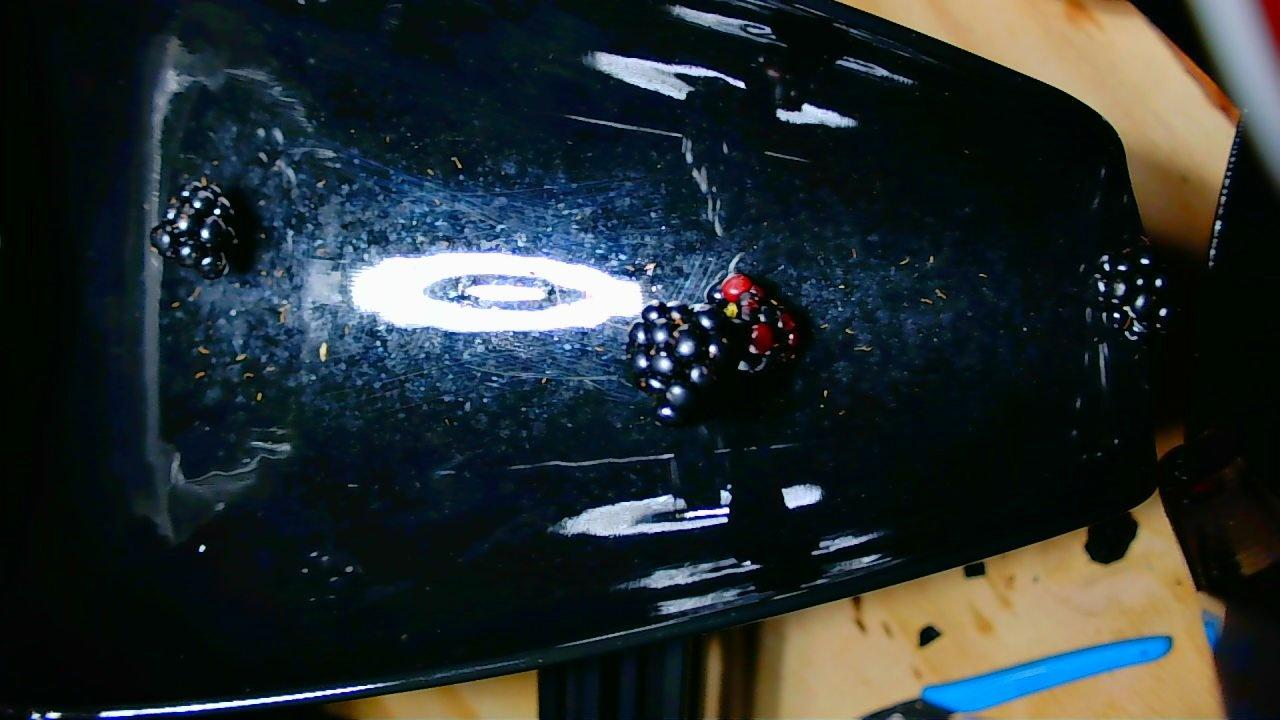berry: (627, 297, 736, 421), (709, 273, 799, 372), (150, 179, 236, 278), (1087, 245, 1171, 341)
